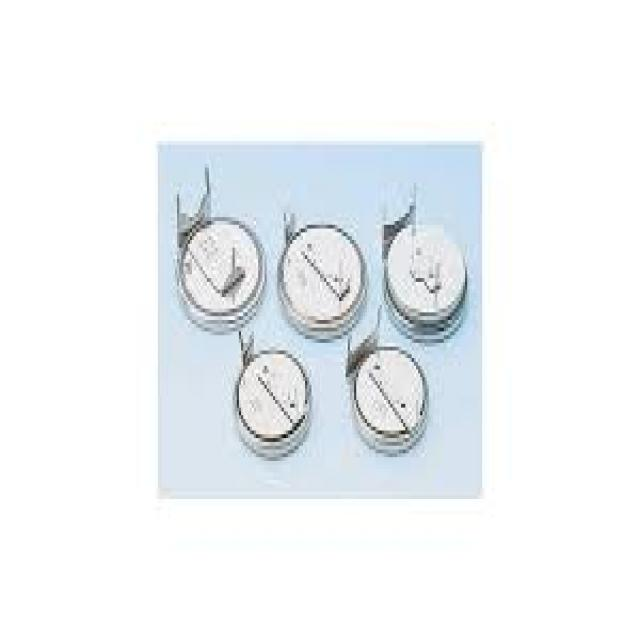battery: (166, 182, 270, 329), (274, 188, 372, 342), (336, 337, 440, 471), (378, 191, 472, 336), (218, 332, 315, 466)
